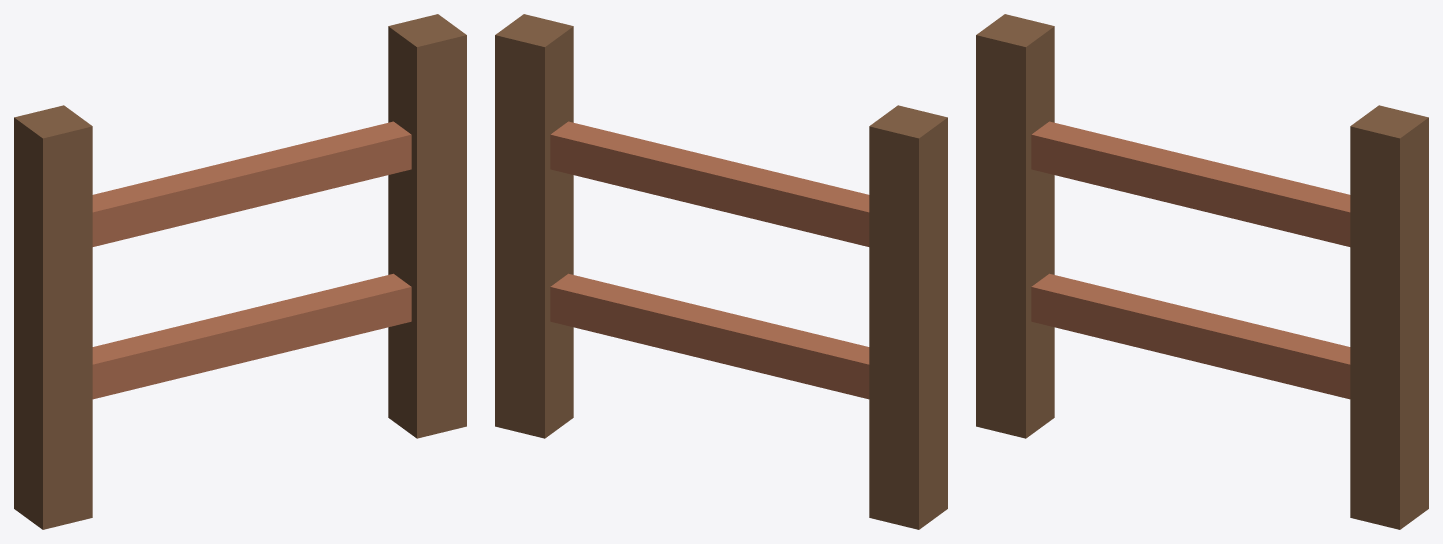
File: prop_fence.glb
3 renders of one model, left to right at view 1: azimuth 30°, elevation 25°; view 2: azimuth 150°, elevation 25°; view 3: azimuth 330°, elevation 25°, orthographic.
Parts seen in each view (by area): view 1: prop_fence; view 2: prop_fence; view 3: prop_fence.
Boxes of the visible parts, x1=… form: prop_fence: x1=14, y1=14, x2=466, y2=529; prop_fence: x1=495, y1=14, x2=947, y2=529; prop_fence: x1=976, y1=14, x2=1428, y2=529.
Bounding box in the file's own units: 1.02 × 0.9 × 0.12.
1 material, 1 textured.
